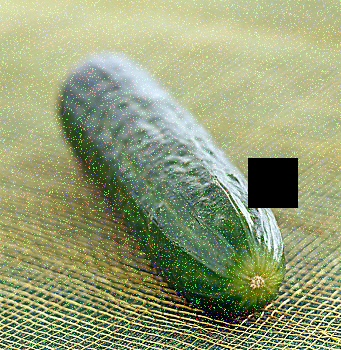cucumber: (58, 53, 285, 313)
